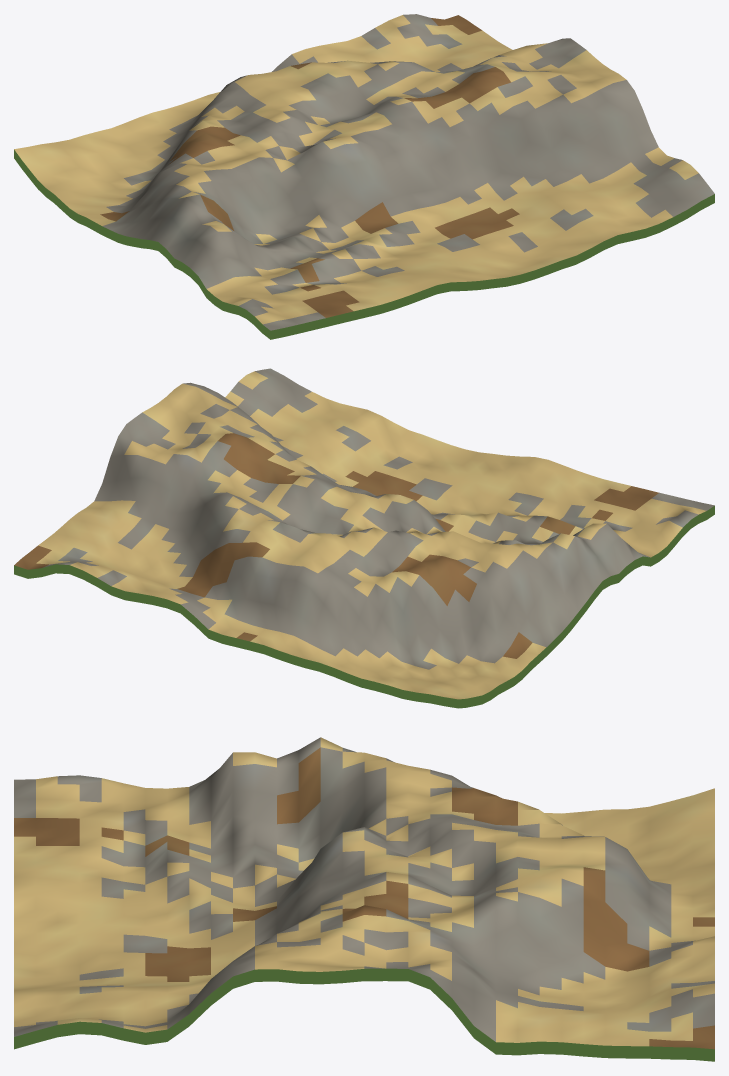
Rendered from chunk_7_5_lod1.glb.
3 renders of one model, top to bottom at view 1: azimuth 30°, elevation 25°; view 2: azimuth 150°, elevation 25°; view 3: azimuth 270°, elevation 25°, orthographic. The views are drawn at different scales.
Visible parts, largest first — view 1: Surface_Gravel, Surface_Sand, Surface_Dirt, Skirt; view 2: Surface_Gravel, Surface_Sand, Surface_Dirt, Skirt; view 3: Surface_Sand, Surface_Gravel, Surface_Dirt, Skirt.
Boxes of the visible parts, bbox=[...] form: Surface_Gravel: bbox=[102, 14, 714, 330]; Surface_Sand: bbox=[14, 15, 698, 324]; Surface_Dirt: bbox=[100, 15, 519, 317]; Skirt: bbox=[14, 149, 714, 339]; Surface_Gravel: bbox=[43, 368, 714, 669]; Surface_Sand: bbox=[36, 371, 706, 699]; Surface_Dirt: bbox=[14, 433, 658, 658]; Skirt: bbox=[14, 505, 714, 708]; Surface_Sand: bbox=[14, 737, 714, 1046]; Surface_Gravel: bbox=[14, 737, 714, 1041]; Surface_Dirt: bbox=[14, 747, 714, 1049]; Skirt: bbox=[14, 968, 714, 1061].
Bounding box in the file's own units: 256 × 61.82 × 256.
